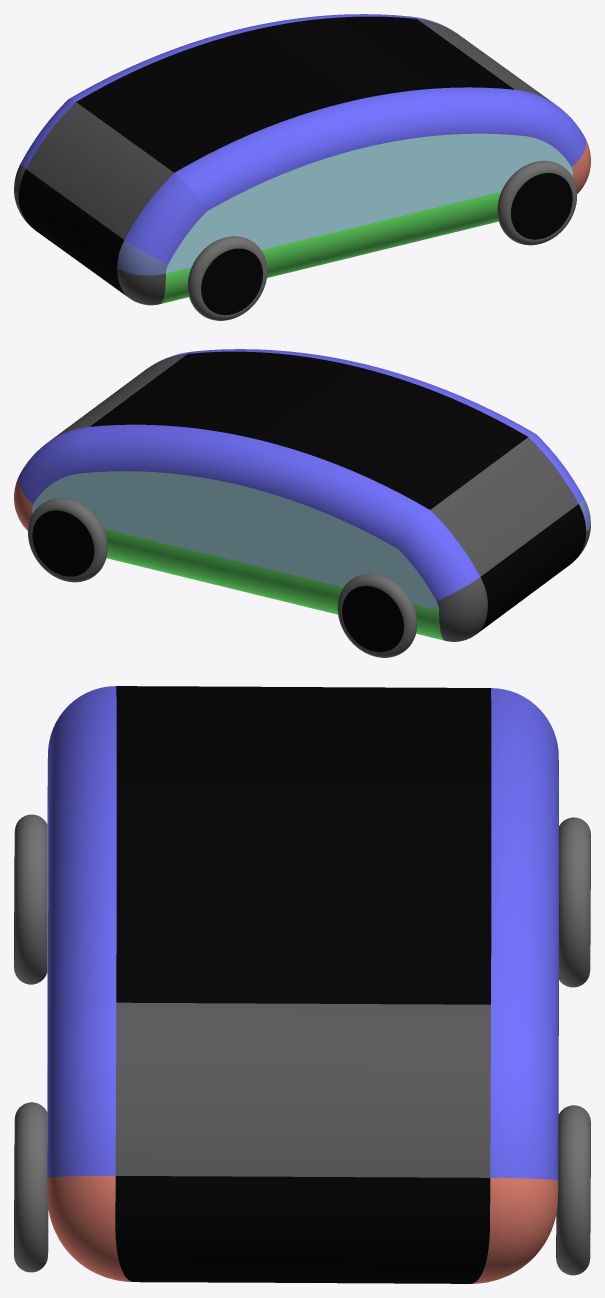
Rendered from Joker.dae.
The picture shows the model from 3 angles, top to bottom: view 1: azimuth 30°, elevation 25°; view 2: azimuth 150°, elevation 25°; view 3: azimuth 270°, elevation 25°; orthographic projection. The views are drawn at different scales.
Visible parts, largest first — view 1: Joker v5; view 2: Joker v5; view 3: Joker v5.
Boxes of the visible parts, bbox=[...] form: Joker v5: bbox=[14, 14, 590, 320]; Joker v5: bbox=[14, 349, 590, 657]; Joker v5: bbox=[14, 686, 590, 1283].
Size of the model in its own units: 0.6749 by 0.3774 by 0.2302.
